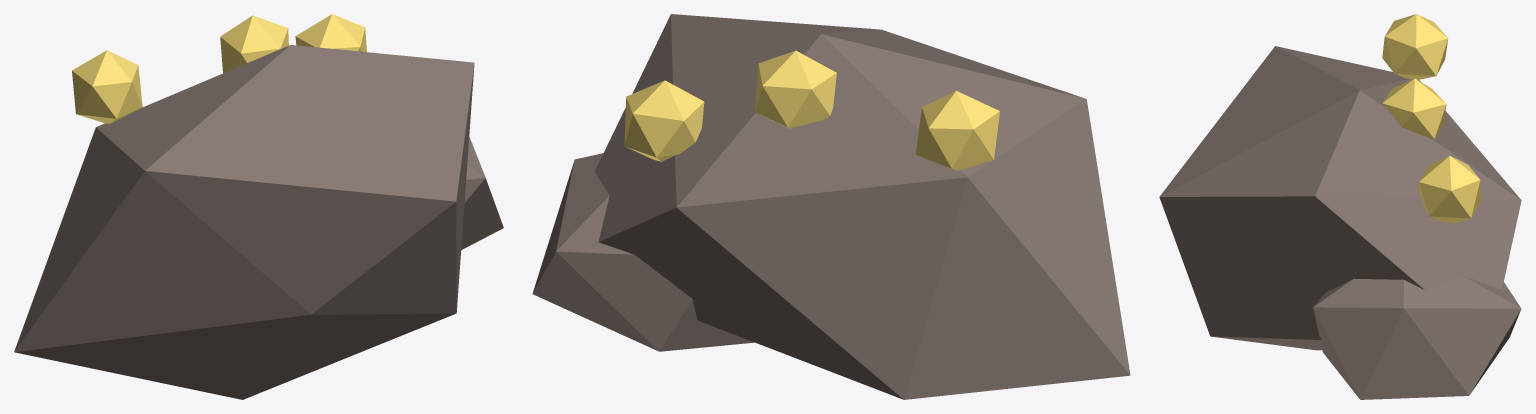
The model's file is TarRock.fbx.
The picture shows the model from 3 angles, left to right: view 1: azimuth 30°, elevation 25°; view 2: azimuth 150°, elevation 25°; view 3: azimuth 270°, elevation 25°; orthographic projection. The views are drawn at different scales.
Visible parts, largest first — view 1: RockDark, Gold; view 2: RockDark, Gold; view 3: RockDark, Gold.
Boxes of the visible parts, x1,y1,x2,y2 form: RockDark: [14, 45, 503, 399]; Gold: [72, 14, 366, 123]; RockDark: [532, 14, 1130, 399]; Gold: [624, 50, 999, 170]; RockDark: [1159, 46, 1521, 399]; Gold: [1382, 14, 1481, 223].
Bounding box in the file's own units: 3.44 × 2.21 × 2.41.
